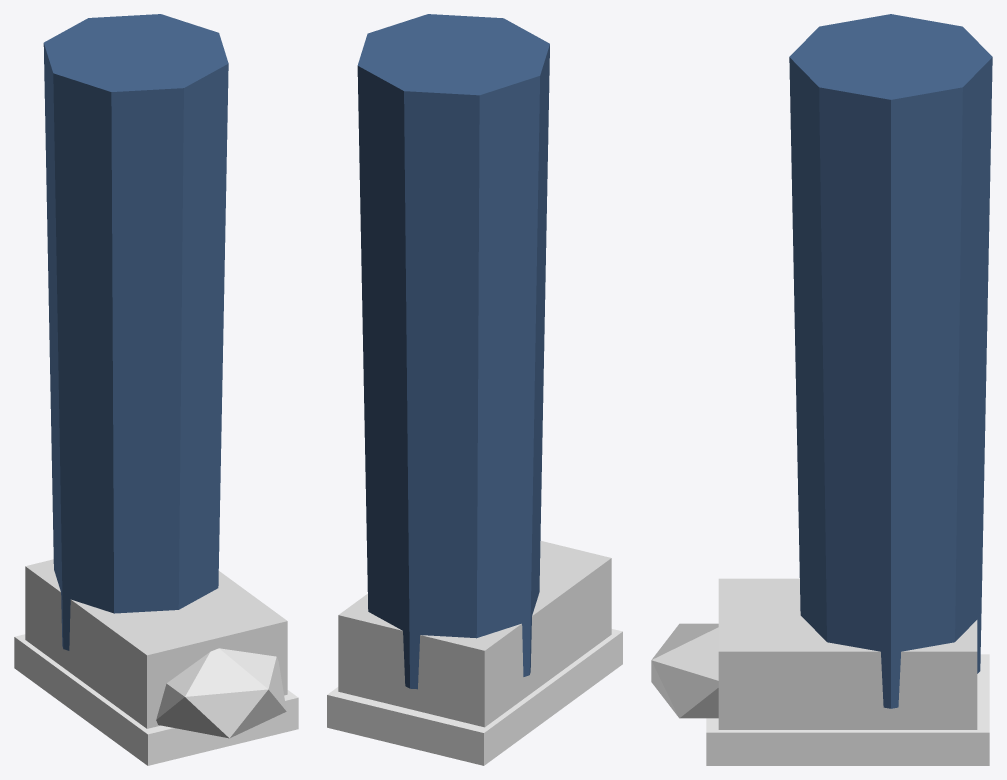
Rendered from insan_e1s_bacak.glb.
The picture shows the model from 3 angles, left to right: view 1: azimuth 30°, elevation 25°; view 2: azimuth 150°, elevation 25°; view 3: azimuth 270°, elevation 25°; orthographic projection. The views are drawn at different scales.
Parts seen in each view (by area): view 1: Cone; view 2: Cone; view 3: Cone.
Boxes of the visible parts, bbox=[...] form: Cone: bbox=[14, 14, 298, 765]; Cone: bbox=[327, 14, 622, 765]; Cone: bbox=[651, 14, 992, 765].
Bounding box in the file's own units: 0.033 × 0.12 × 0.0554.
